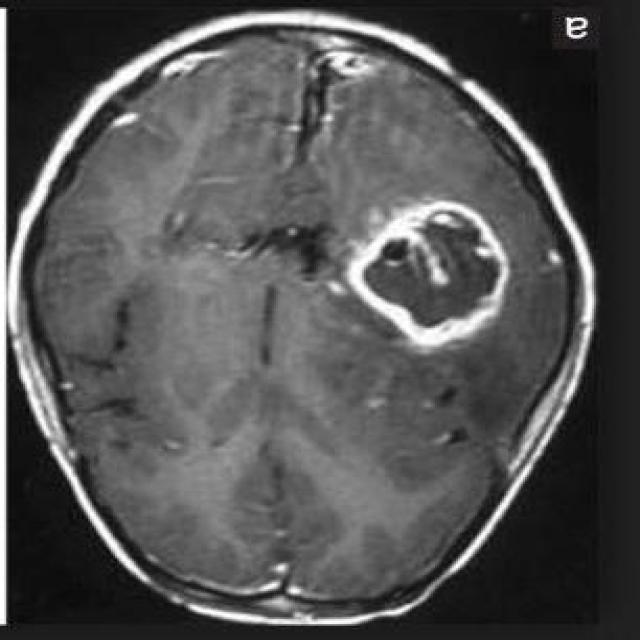Tumor-Cell: (354, 180, 499, 344)
